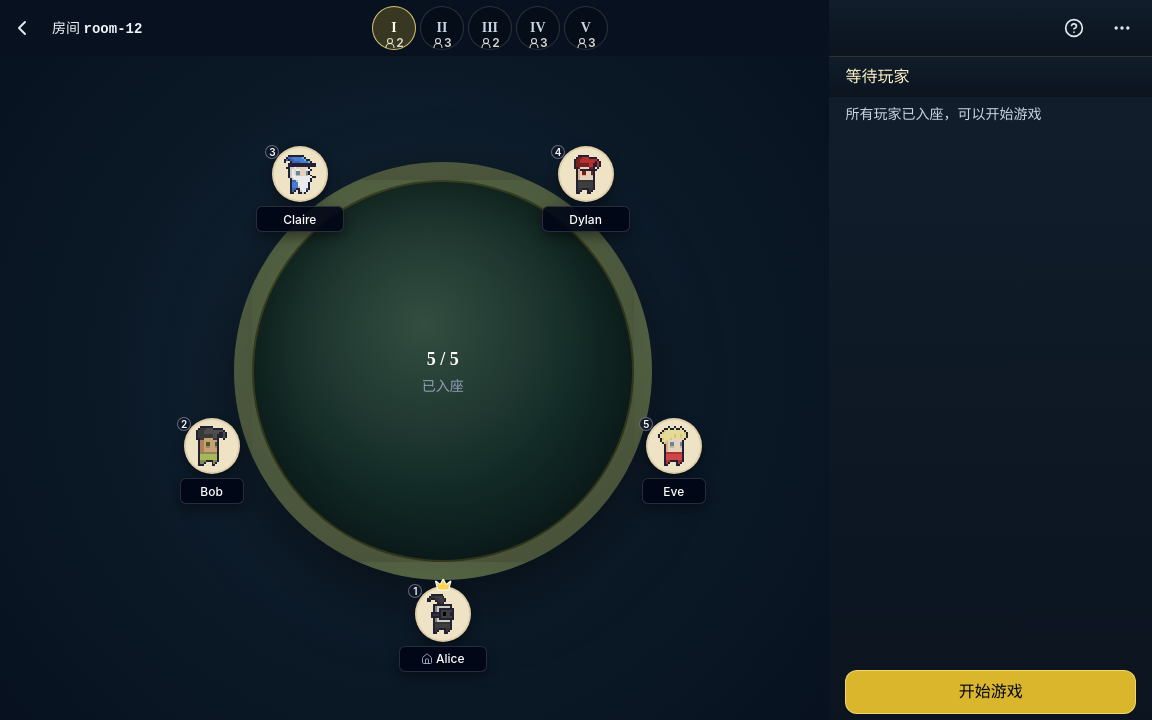
Test: RoomView profile editing › keeps an open draft editable but disables saving while disconnected
Step 1. Click the button with aria-label "编辑名字和头像" → (443, 659), box [399,646,487,672]
(page scrolled)
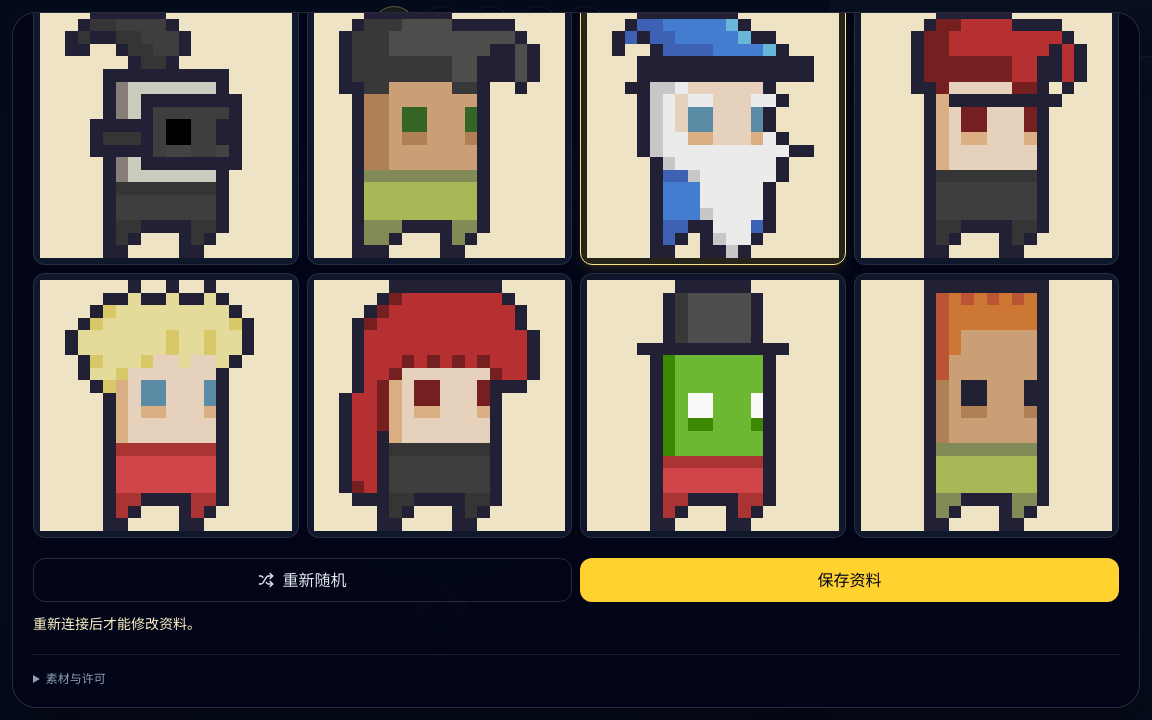
Expected: the button "保存资料" is disabled, [580,558,1119,602]
Expected: the text "重新连接后才能修改资料。" is shown, [33,615,201,632]
